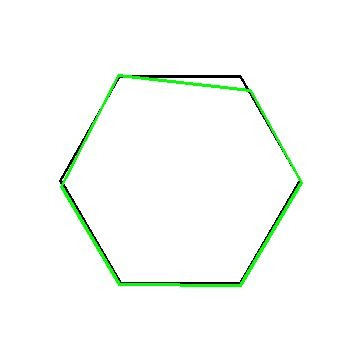line_segment: (59, 74, 302, 286)
